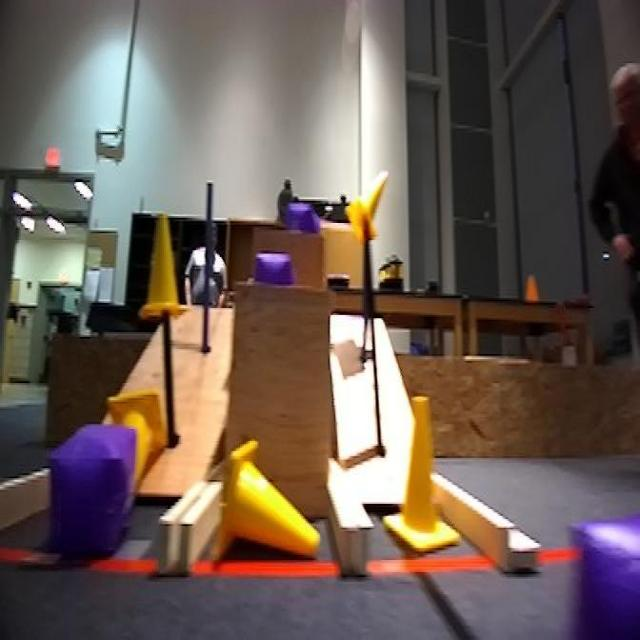frc_cone: (396, 378, 472, 572), (223, 438, 338, 564), (149, 216, 203, 330), (107, 388, 162, 478), (353, 150, 400, 242)
frc_cube: (42, 422, 127, 560), (567, 519, 640, 640), (277, 196, 314, 250), (255, 248, 287, 290)
